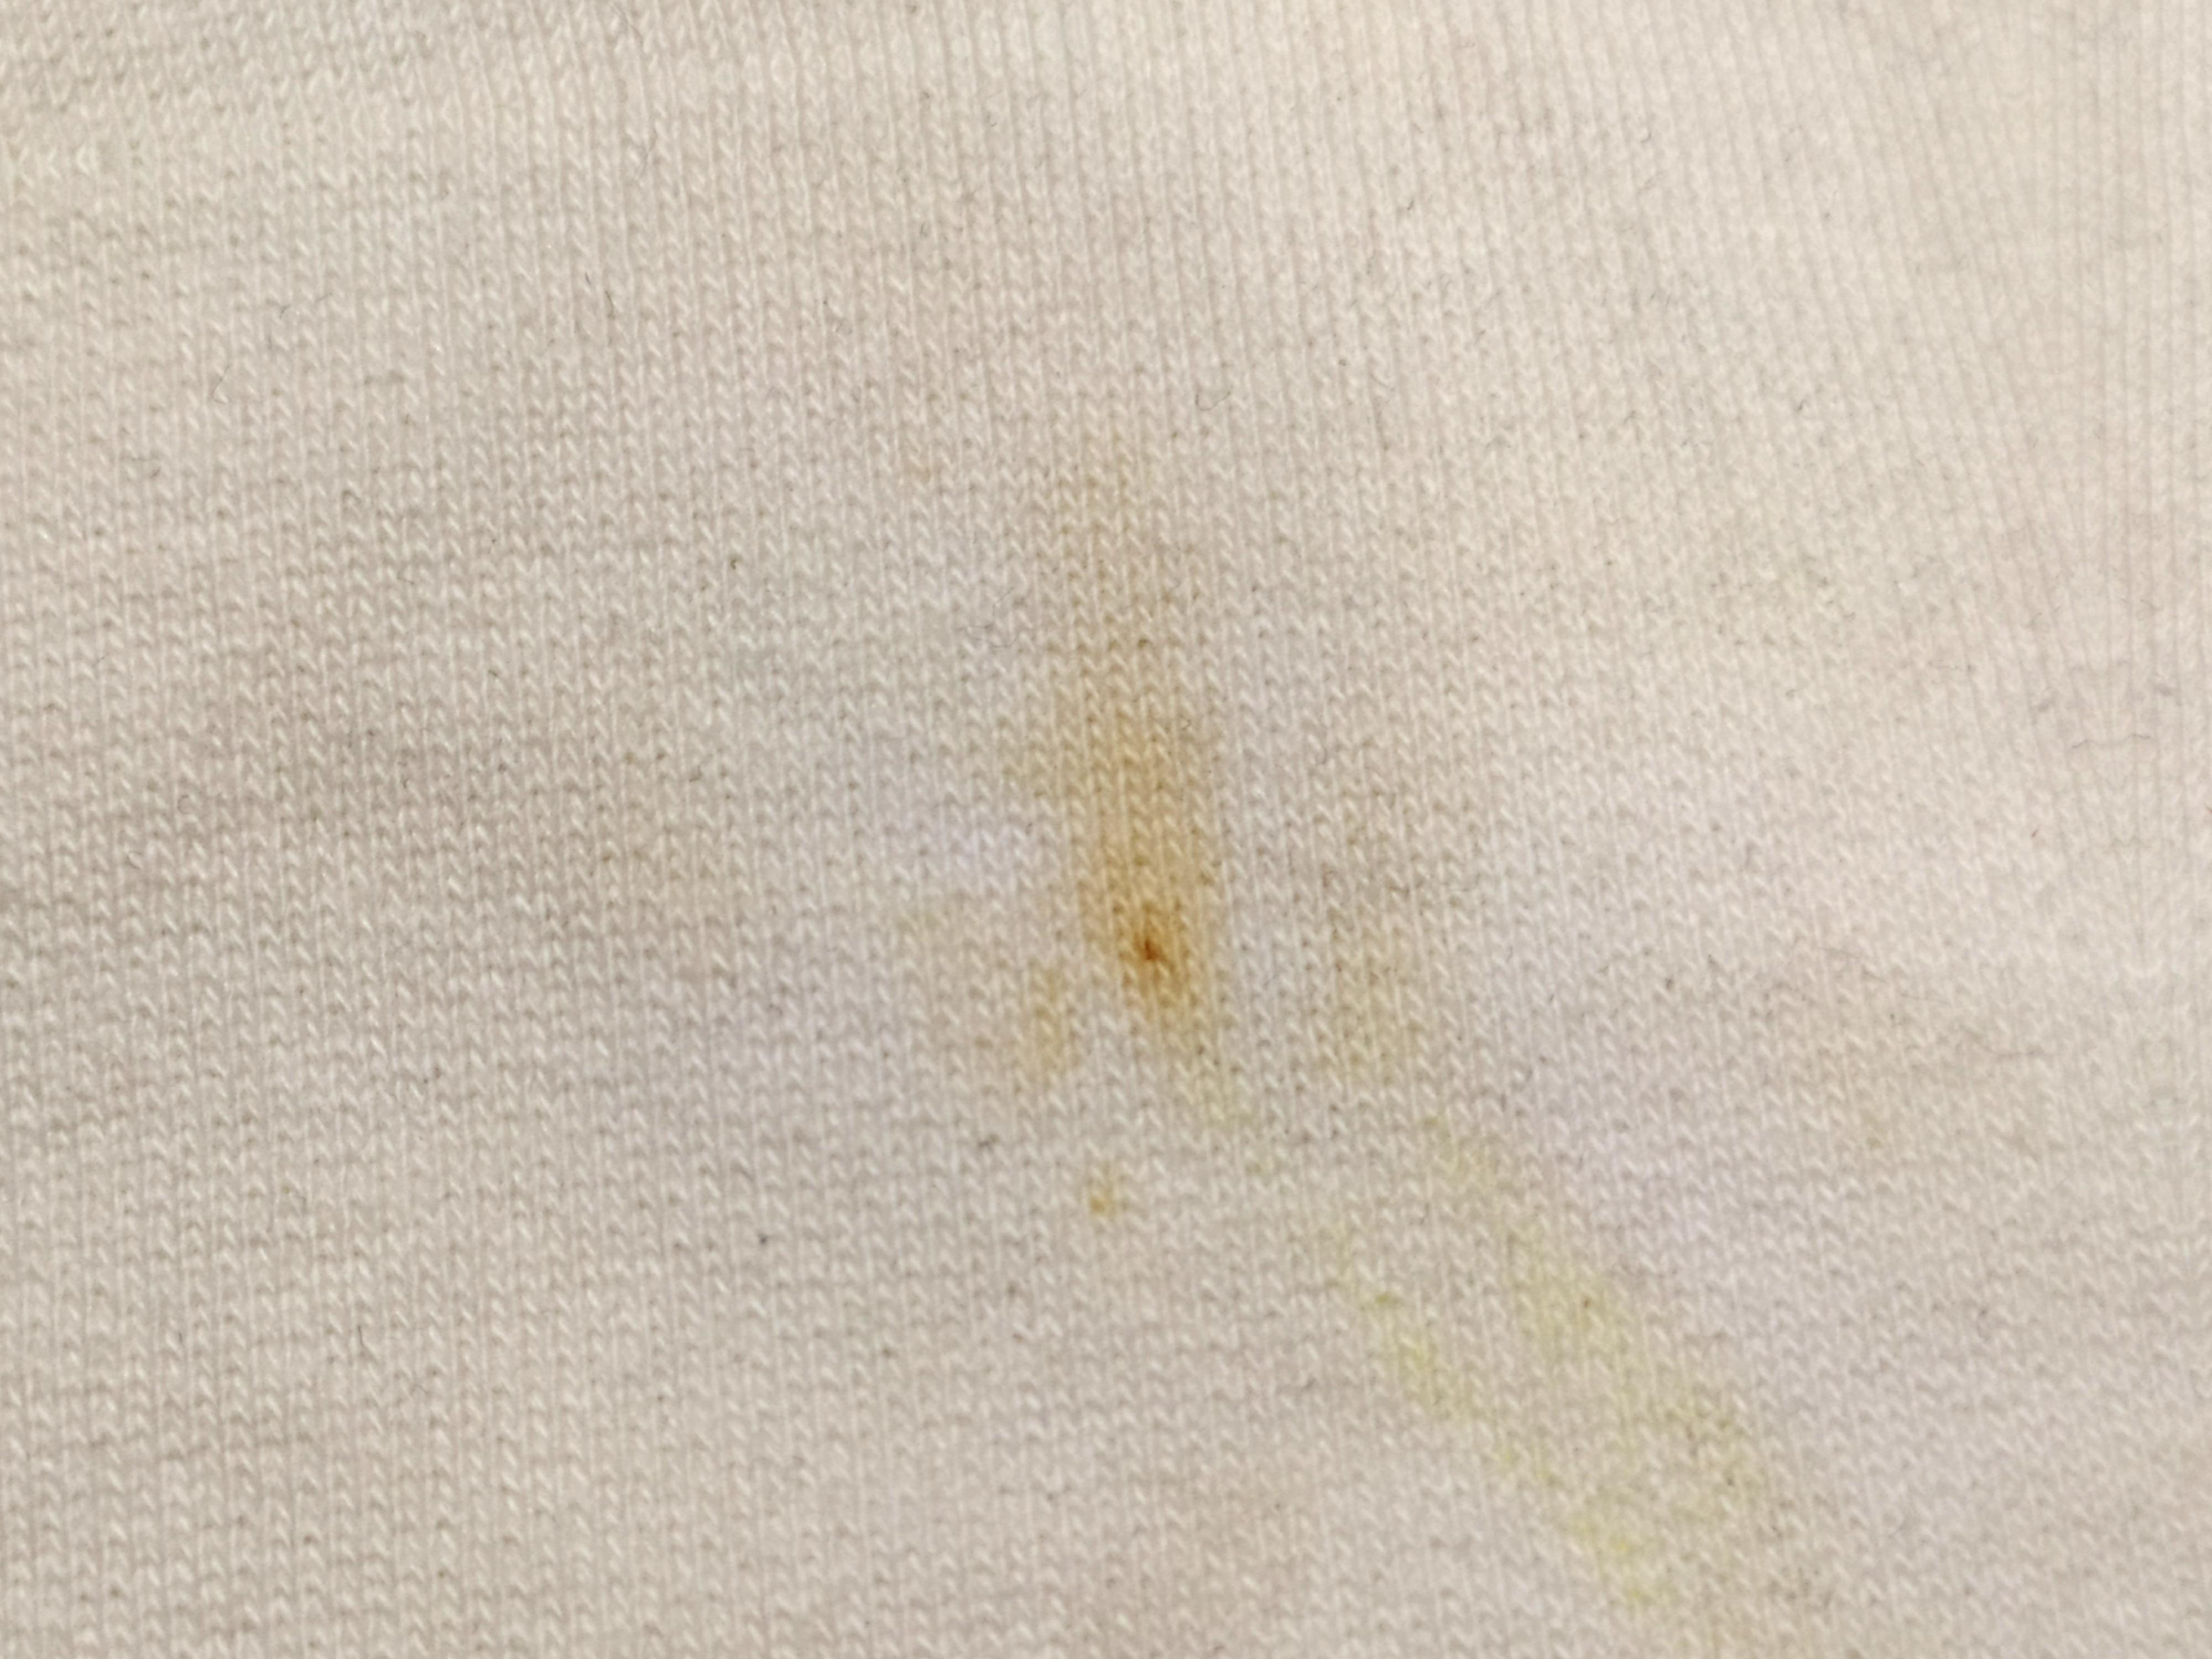stain: (1064, 629, 1249, 1037)
